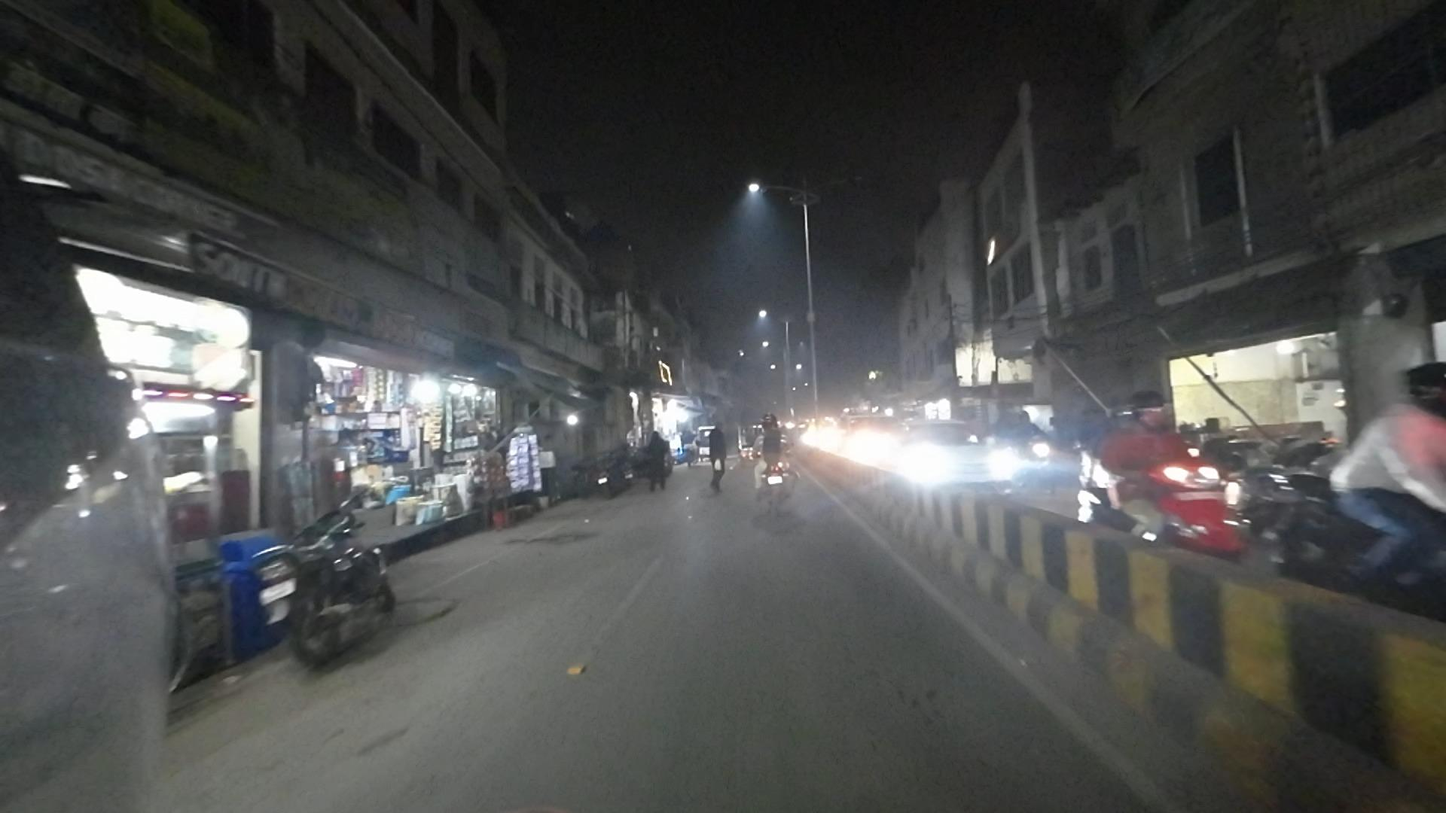streetlight: (812, 174, 865, 193)
